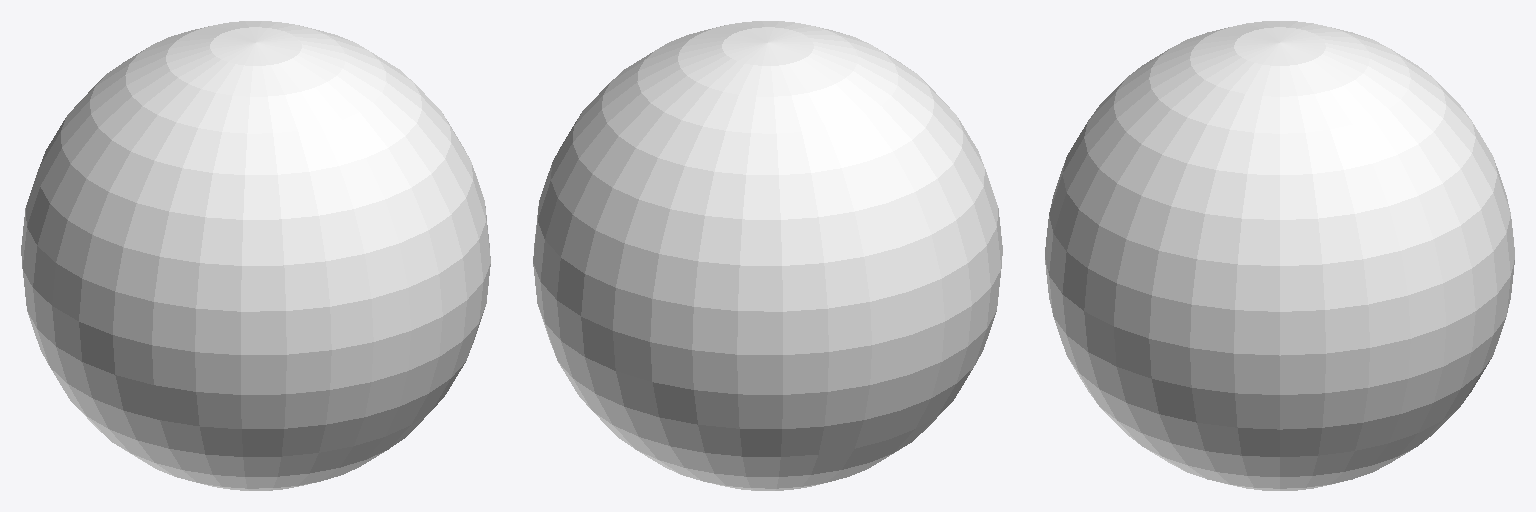
The model's file is event_sphere.obj.
3 views of the same model, side by side, from view 1: azimuth 30°, elevation 25°; view 2: azimuth 150°, elevation 25°; view 3: azimuth 270°, elevation 25° (orthographic).
Visible parts, largest first — view 1: Sphere, Sphere.001; view 2: Sphere, Sphere.001; view 3: Sphere, Sphere.001.
Boxes of the visible parts, <box> form: Sphere: <box>21,21,490,490</box>; Sphere.001: <box>21,21,490,490</box>; Sphere: <box>533,21,1002,490</box>; Sphere.001: <box>533,21,1001,490</box>; Sphere: <box>1045,21,1514,490</box>; Sphere.001: <box>1045,21,1513,490</box>.
Bounding box in the file's own units: 91 × 91 × 91.